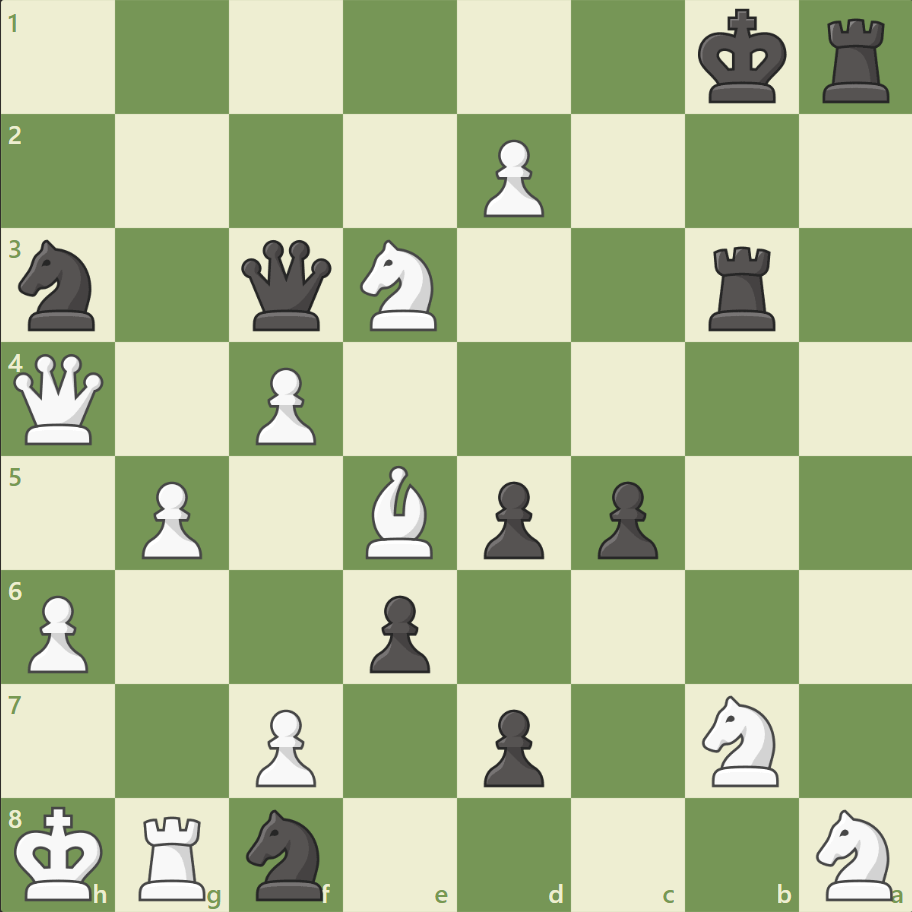B: (358, 460, 442, 563)
K: (11, 798, 111, 906)
N: (351, 234, 449, 337), (692, 688, 789, 791), (806, 802, 903, 904)
P: (247, 700, 322, 791), (20, 586, 95, 677), (133, 473, 208, 564), (247, 359, 322, 450), (474, 132, 549, 223)
Q: (10, 349, 109, 449)
R: (133, 806, 215, 904)
k: (692, 4, 792, 112)
n: (11, 234, 108, 337), (238, 802, 335, 904)
p: (474, 700, 549, 791), (474, 473, 549, 564), (361, 586, 435, 677), (588, 473, 662, 564)
q: (237, 236, 336, 335)
r: (700, 239, 783, 336), (814, 12, 897, 109)
